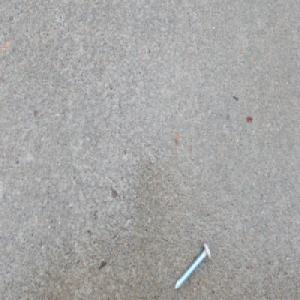Nail: (173, 241, 211, 293)
